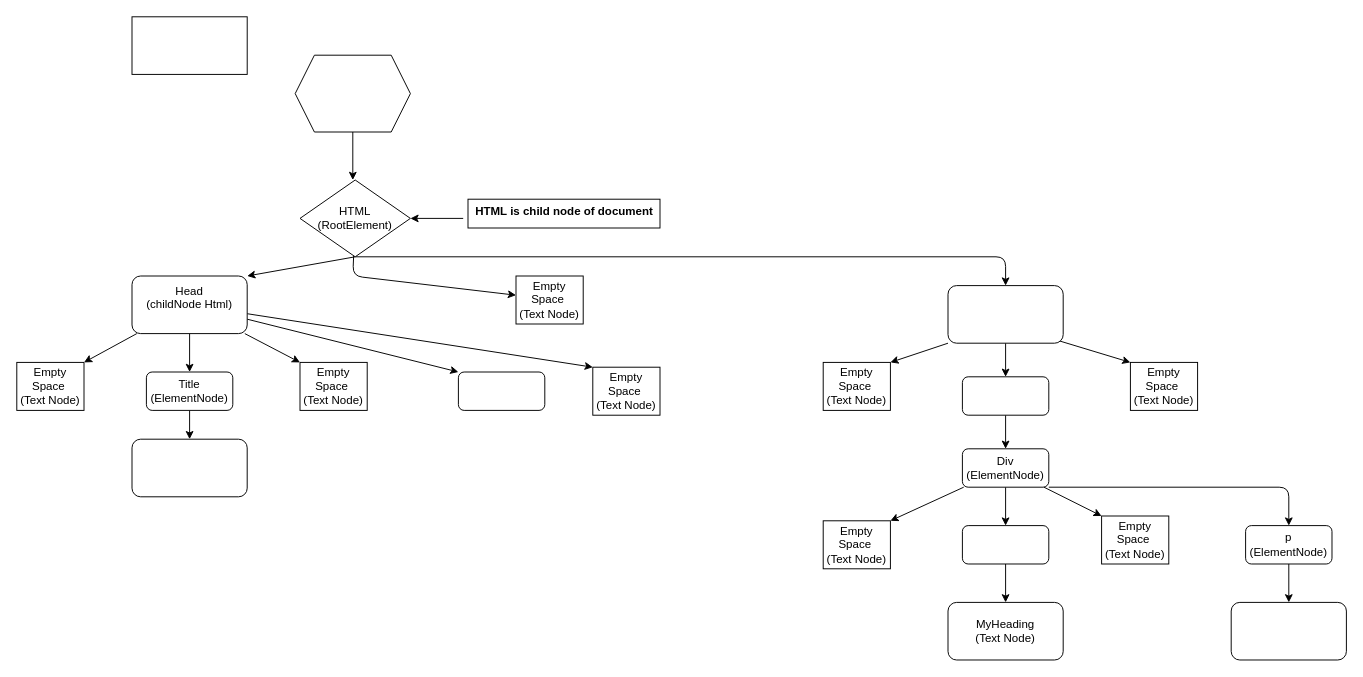
Image size: 1363x677. Some labels were removed from this diagram. The shapes that lost their labels are listed below. From the top down, each one's box as (x1, y1, x2, y2) in pixels, then its label:
(131, 16, 247, 74): DOM stores html in the forn of tree in browser
(294, 54, 410, 132): Document (RootNode)
(947, 285, 1063, 343): Body (childNode Html)
(457, 371, 545, 410): Script (ElementNode)
(961, 376, 1049, 415): Body (ElementNode)
(131, 438, 247, 497): Dom Tranversing (Text Node)
(961, 525, 1049, 564): h1 (ElementNode)
(1230, 601, 1346, 660): Some Info (Text Node)
